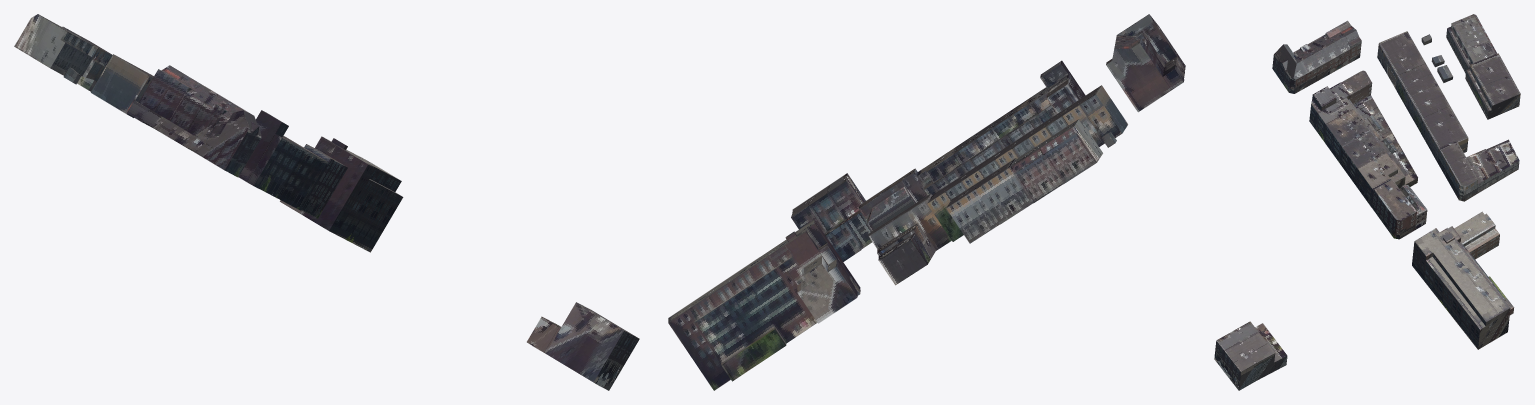
The model's file is 17-134311-27735-0-tex512.glb.
3 renders of one model, left to right at view 1: azimuth 30°, elevation 25°; view 2: azimuth 150°, elevation 25°; view 3: azimuth 270°, elevation 25°, orthographic. The views are drawn at different scales.
Parts seen in each view (by area): view 1: BAG_0599100000429040, BAG_0599100000760340, BAG_0599100000670032, BAG_0599100000603332, BAG_0599100000213114, BAG_0599100000603333, BAG_0599100000603339, BAG_0599100000762368, BAG_0599100000762370, BAG_0599100000700543, BAG_0599100000628274, BAG_0599100000762369 (+4 smaller); view 2: BAG_0599100000429040, BAG_0599100000762370, BAG_0599100000670032, BAG_0599100000762413, BAG_0599100000603339, BAG_0599100000670036, BAG_0599100000682955, BAG_0599100000670040, BAG_0599100000760340, BAG_0599100000670034, BAG_0599100000760342, BAG_0599100000682959 (+11 smaller); view 3: BAG_0599100000429040, BAG_0599100000603339, BAG_0599100000603335, BAG_0599100000603338, BAG_0599100000603337, BAG_0599100000760344, BAG_0599100000603333, BAG_0599100000682955, BAG_0599100000670040, BAG_0599100000603332, BAG_0599100000670036, BAG_0599100000670032 (+23 smaller).
Part boxes in pixels (box(x1,y1,x2,y2)): BAG_0599100000429040: box(280, 136, 403, 252); BAG_0599100000760340: box(527, 302, 629, 384); BAG_0599100000670032: box(14, 14, 79, 75); BAG_0599100000603332: box(206, 110, 261, 177); BAG_0599100000213114: box(91, 54, 152, 117); BAG_0599100000603333: box(239, 110, 288, 188); BAG_0599100000603339: box(301, 144, 347, 218); BAG_0599100000762368: box(158, 84, 217, 141); BAG_0599100000762370: box(127, 65, 184, 127); BAG_0599100000700543: box(143, 74, 200, 130); BAG_0599100000628274: box(189, 102, 247, 158); BAG_0599100000762369: box(176, 94, 230, 150); BAG_0599100000429040: box(668, 219, 860, 390); BAG_0599100000762370: box(1106, 41, 1184, 112); BAG_0599100000670032: box(1040, 119, 1102, 184); BAG_0599100000762413: box(797, 261, 857, 323); BAG_0599100000603339: box(859, 168, 927, 230); BAG_0599100000670036: box(976, 158, 1032, 224); BAG_0599100000682955: box(868, 193, 951, 250); BAG_0599100000670040: box(946, 180, 999, 243); BAG_0599100000760340: box(826, 173, 872, 249); BAG_0599100000670034: box(1010, 141, 1062, 203); BAG_0599100000760342: box(808, 185, 861, 261); BAG_0599100000682959: box(878, 233, 931, 285); BAG_0599100000429040: box(1412, 226, 1514, 349); BAG_0599100000603339: box(1372, 179, 1427, 239); BAG_0599100000603335: box(1324, 107, 1391, 163); BAG_0599100000603338: box(1356, 153, 1417, 207); BAG_0599100000603337: box(1340, 131, 1404, 185); BAG_0599100000760344: box(1232, 343, 1287, 390); BAG_0599100000603333: box(1309, 70, 1372, 129); BAG_0599100000682955: box(1438, 142, 1477, 201); BAG_0599100000670040: box(1477, 75, 1520, 119); BAG_0599100000603332: box(1272, 44, 1305, 93); BAG_0599100000670036: box(1465, 53, 1509, 99); BAG_0599100000670032: box(1446, 14, 1487, 58).
Size of the model in its own units: 124 by 92.54 by 105.
2 materials, 1 textured.
